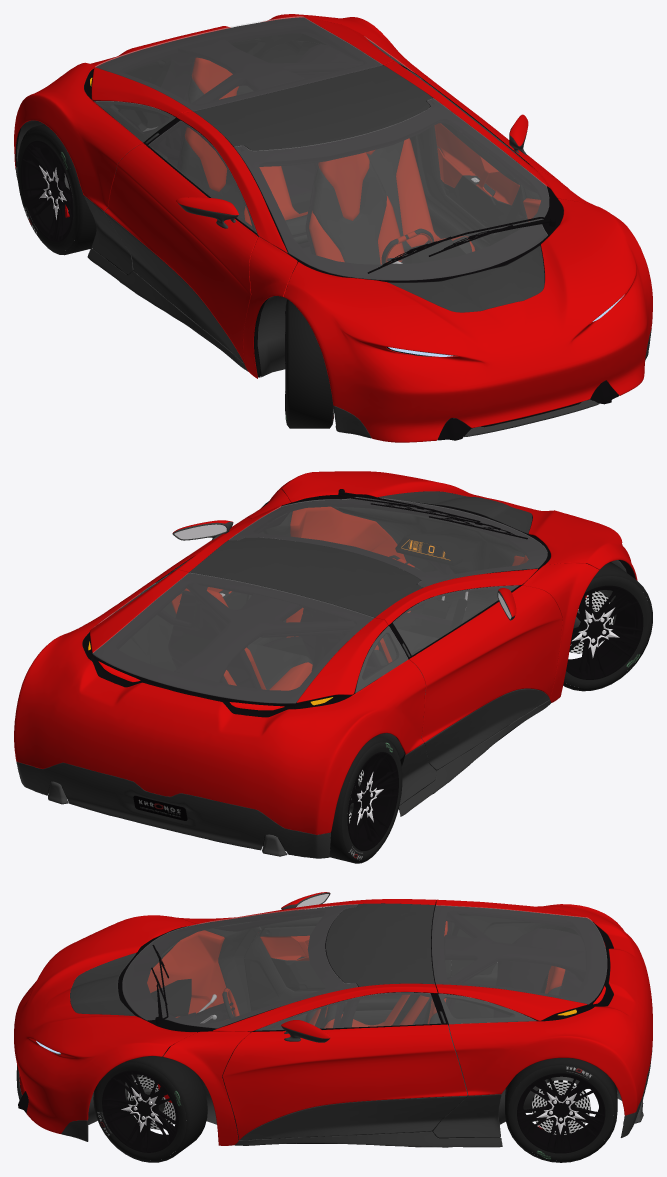
Rendered from nouveau-aether-opt.glb.
The picture shows the model from 3 angles, top to bottom: view 1: azimuth 30°, elevation 25°; view 2: azimuth 150°, elevation 25°; view 3: azimuth 270°, elevation 25°; orthographic projection. The views are drawn at different scales.
Visible parts, largest first — view 1: BodyHood, BodyWindshield, BodyRearwindow, BodyDoorRColor1, BodyRearPanelsColor1, BodyRoofPanel, BodyWindshieldGasket, InteriorSeatsColor1, InteriorSeatsColor2, BodyPillars, InteriorPillar, InteriorRearHatch (+22 smaller); view 2: BodyRearPanelsColor1, BodyRearwindow, BodyWindshield, BodyDoorRColor1, BodyPanelsColor2, BodyRoofPanel, BodyHood, InteriorRearHatch, BodyPillars, InteriorPillar, InteriorDashMid, BodyWindshieldGasket (+22 smaller); view 3: BodyRearPanelsColor1, BodyWindshield, BodyDoorLColor1, BodyHood, BodyRearwindow, BodyRoofPanel, BodyPillars, BodyWindshieldGasket, BodyDoorLColor2, BodyPanelsColor2, WheelFrontL, InteriorRearHatch (+25 smaller).
Part boxes in pixels (x1,y1,x2,y2): BodyHood: (284, 198, 652, 442); BodyWindshield: (234, 98, 548, 280); BodyRearwindow: (95, 16, 382, 111); BodyDoorRColor1: (104, 143, 257, 363); BodyRearPanelsColor1: (14, 14, 429, 210); BodyRoofPanel: (194, 65, 432, 150); BodyWindshieldGasket: (234, 99, 563, 282); InteriorSeatsColor1: (185, 57, 475, 264); InteriorSeatsColor2: (180, 78, 472, 264); BodyPillars: (176, 61, 598, 378); InteriorPillar: (158, 37, 435, 168); InteriorRearHatch: (93, 17, 383, 117); BodyRearPanelsColor1: (14, 569, 425, 834); BodyRearwindow: (93, 573, 373, 703); BodyWindshield: (229, 497, 547, 587); BodyDoorRColor1: (409, 585, 562, 742); BodyPanelsColor2: (15, 699, 551, 858); BodyRoofPanel: (189, 537, 422, 617); BodyHood: (279, 471, 637, 580); InteriorRearHatch: (93, 573, 386, 707); BodyPillars: (175, 489, 599, 702); InteriorPillar: (174, 574, 417, 682); InteriorDashMid: (331, 502, 528, 622); BodyWindshieldGasket: (230, 497, 550, 587); BodyRearPanelsColor1: (436, 899, 652, 1115); BodyWindshield: (122, 904, 357, 1028); BodyDoorLColor1: (222, 1024, 467, 1139); BodyHood: (14, 915, 196, 1133); BodyRearwindow: (432, 905, 606, 1003); BodyRoofPanel: (326, 903, 434, 986); BodyPillars: (163, 899, 437, 1145); BodyWindshieldGasket: (118, 905, 357, 1032); BodyDoorLColor2: (240, 1096, 467, 1140); BodyPanelsColor2: (16, 1050, 652, 1147); WheelFrontL: (93, 1054, 207, 1162); InteriorRearHatch: (431, 905, 606, 1020).
Size of the model in its own units: 2.54 by 1.15 by 4.36.
Materials: 23 (6 with a texture image).
